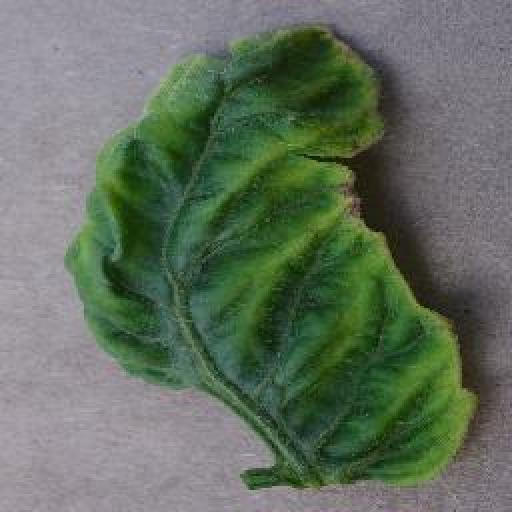disease_tomato: (64, 20, 482, 490)
